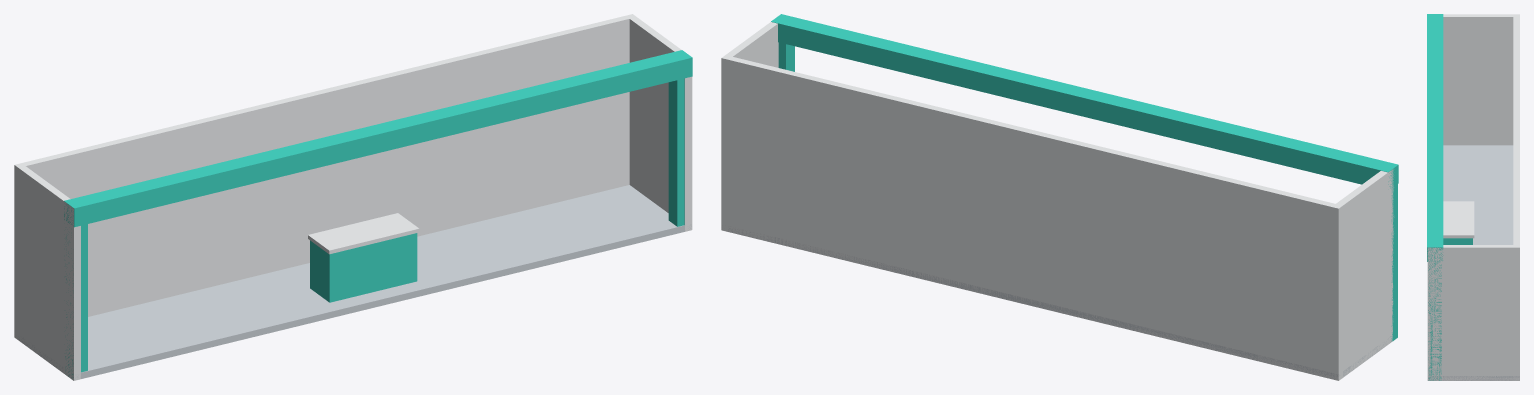
3 renders of one model, left to right at view 1: azimuth 30°, elevation 25°; view 2: azimuth 150°, elevation 25°; view 3: azimuth 270°, elevation 25°, orthographic. The views are drawn at different scales.
Parts seen in each view (by area): view 1: Exhibition Booth Concept; view 2: Exhibition Booth Concept; view 3: Exhibition Booth Concept.
Boxes of the visible parts, x1=… form: Exhibition Booth Concept: x1=14, y1=14, x2=692, y2=380; Exhibition Booth Concept: x1=721, y1=14, x2=1398, y2=380; Exhibition Booth Concept: x1=1427, y1=14, x2=1519, y2=380.
Bounding box in the file's own units: 12 × 3.2 × 2.01.
